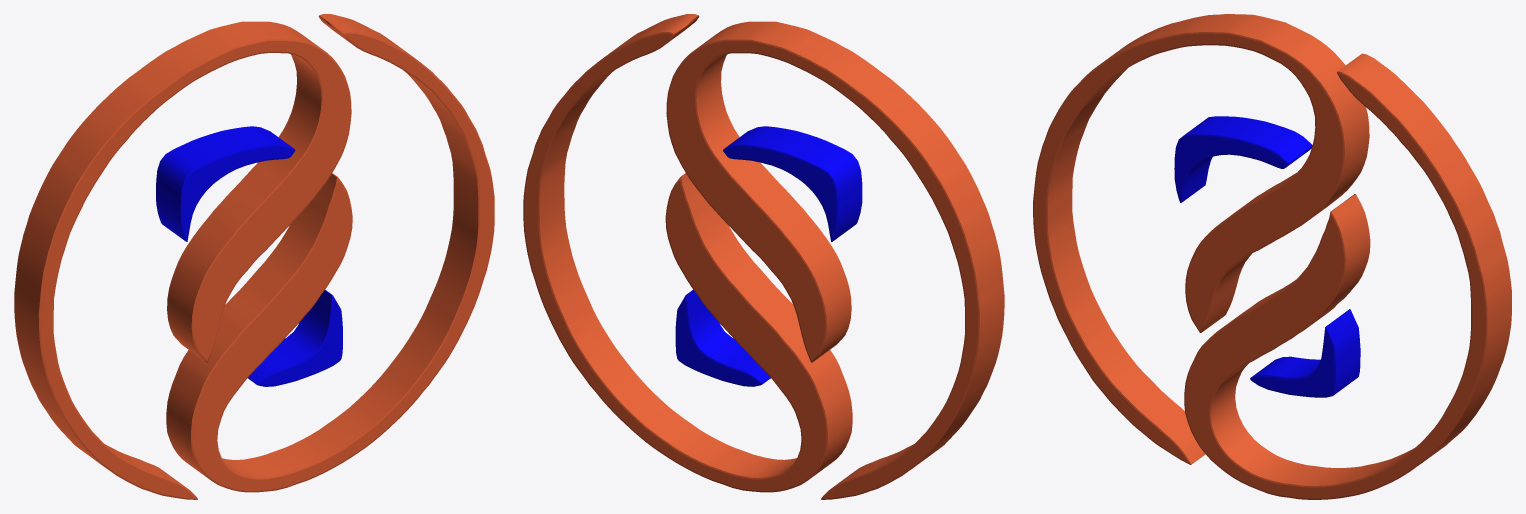
Rendered from sortiq-transformed.glb.
3 renders of one model, left to right at view 1: azimuth 30°, elevation 25°; view 2: azimuth 150°, elevation 25°; view 3: azimuth 330°, elevation 25°, orthographic.
Visible parts, largest first — view 1: Plane.001; view 2: Plane.001; view 3: Plane.001.
Boxes of the visible parts, left/top/right/bottom form: Plane.001: left=14, top=14, right=494, bottom=499; Plane.001: left=523, top=14, right=1004, bottom=499; Plane.001: left=1033, top=14, right=1511, bottom=499.
Size of the model in its own units: 6.2 by 5.89 by 0.6021.
